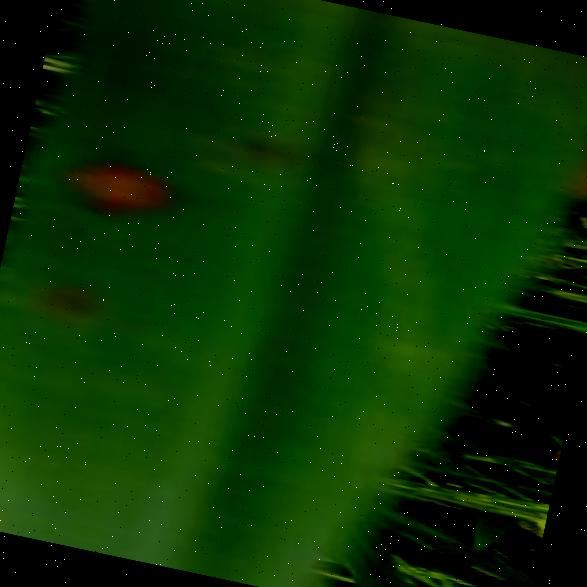Leaf_smut: (46, 92, 198, 240)
